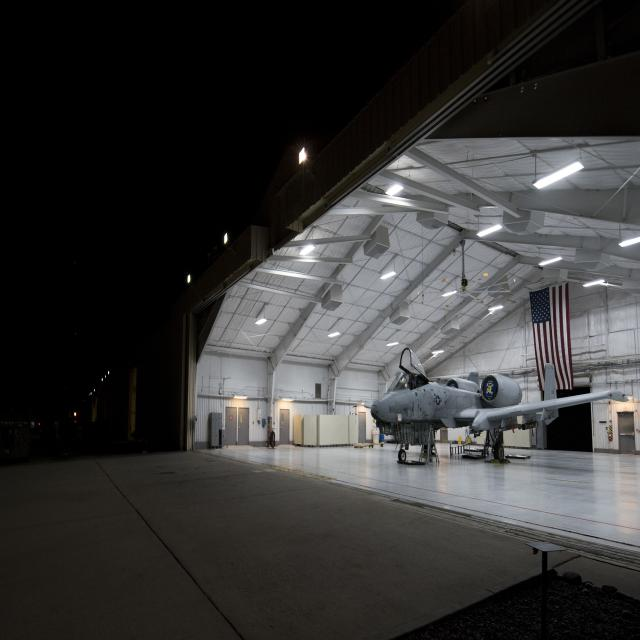MIL_Plane: (352, 348, 629, 464)
